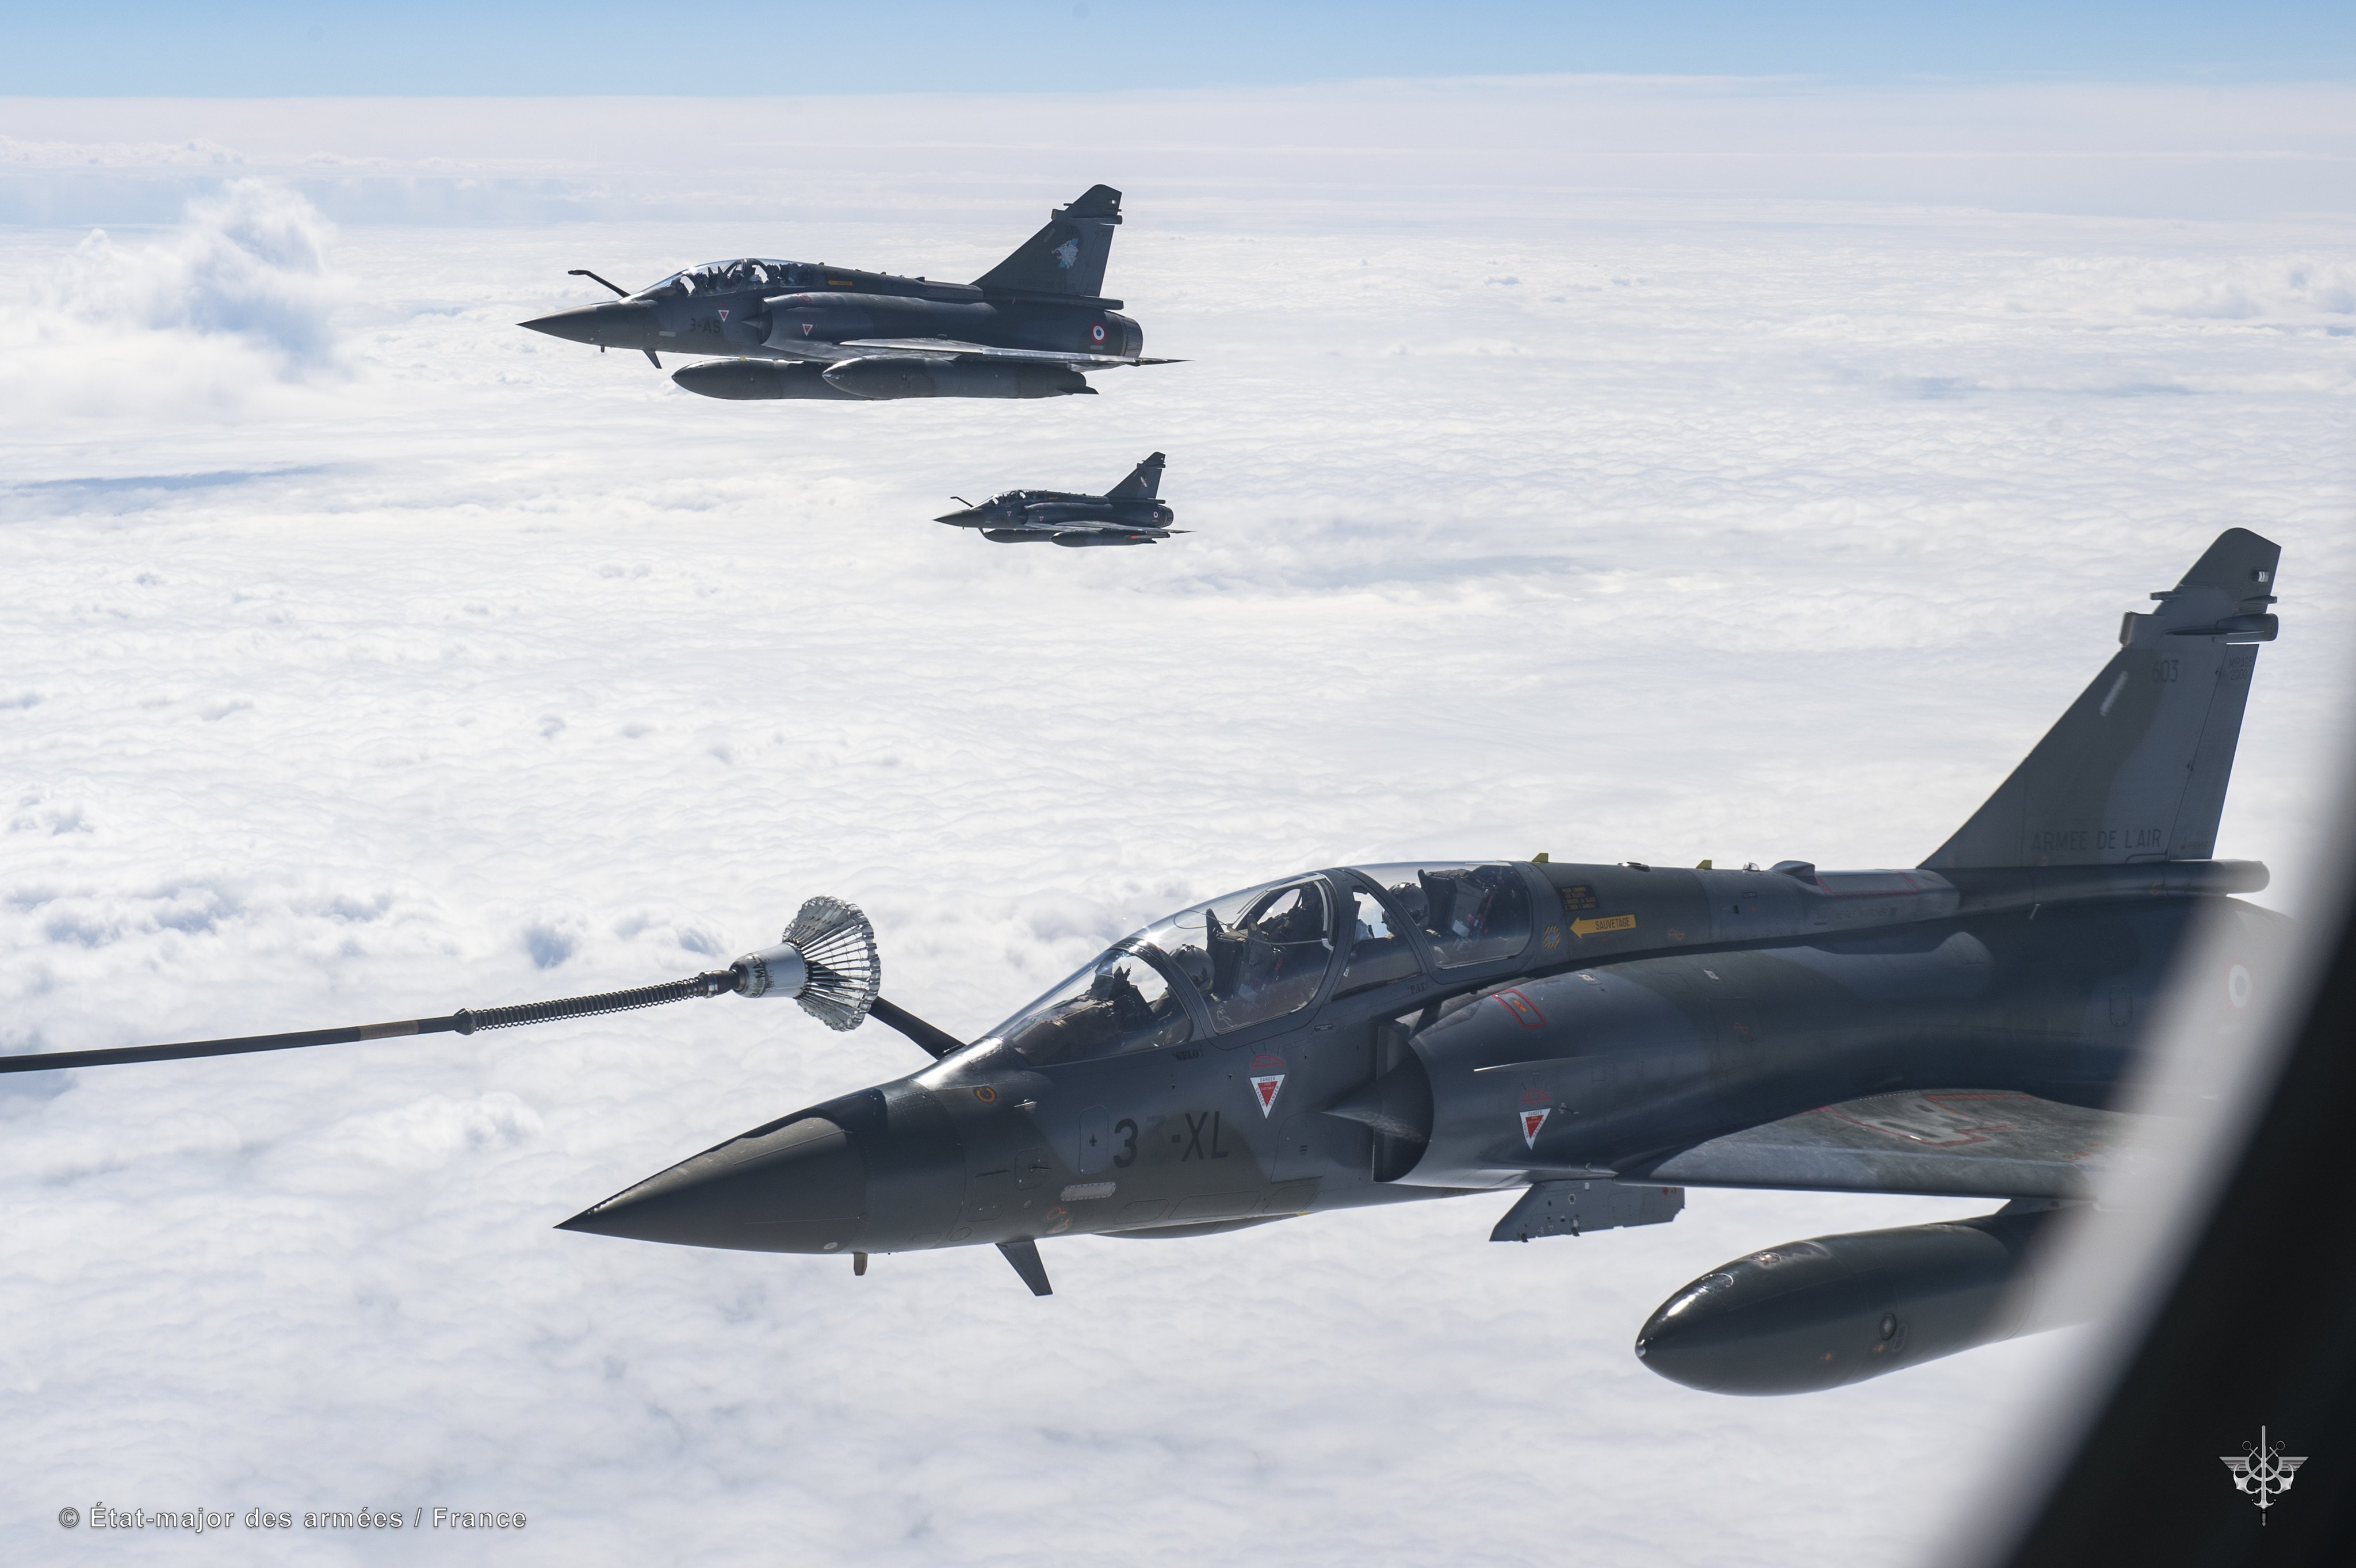Mirage2000: (551, 527, 2297, 1396), (514, 184, 1196, 401), (931, 452, 1198, 548)
